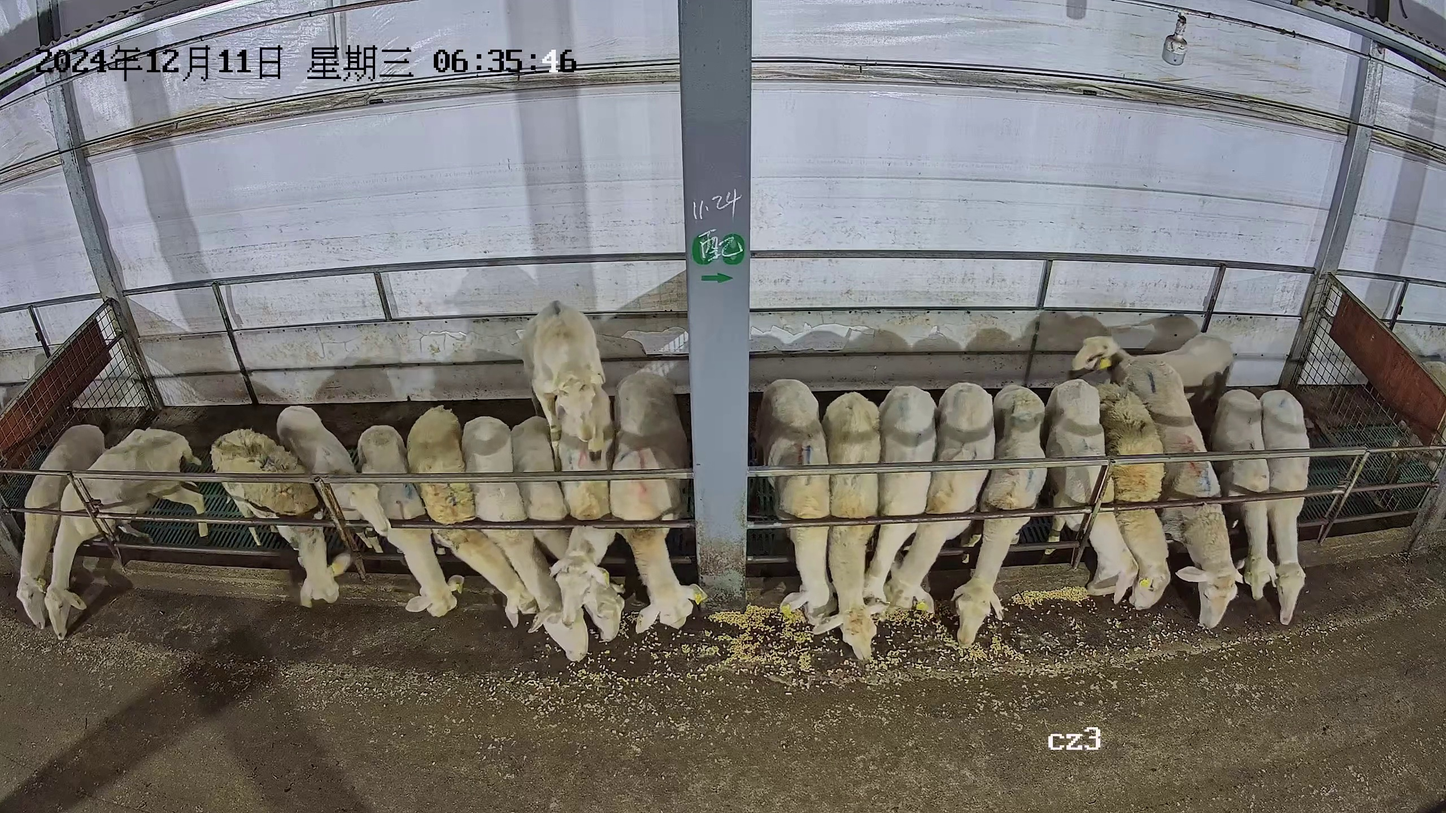Nmounting: (509, 298, 620, 633)
